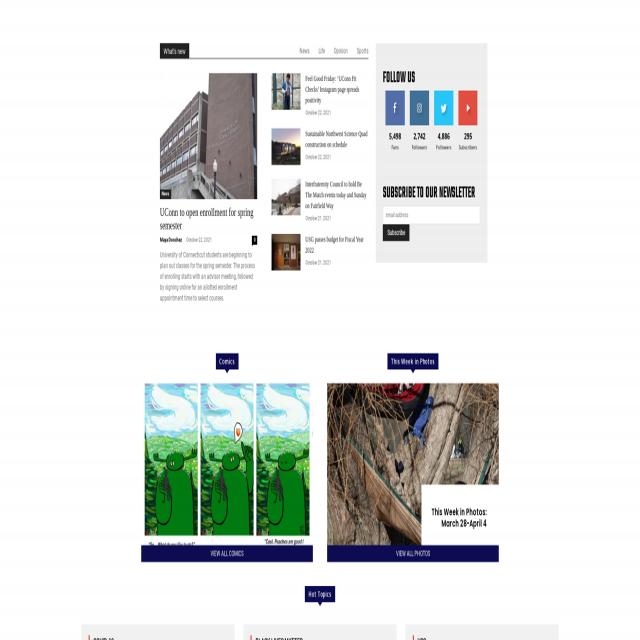button: (141, 384, 313, 546), (327, 384, 499, 546), (160, 73, 257, 199), (272, 73, 368, 117), (272, 178, 368, 222), (271, 233, 368, 270), (272, 128, 368, 165), (141, 546, 313, 562), (327, 546, 499, 562), (409, 90, 429, 126), (385, 90, 405, 126), (458, 91, 478, 127), (434, 90, 453, 126), (160, 42, 190, 60), (383, 223, 410, 240), (160, 190, 171, 199), (252, 236, 257, 245)
field: (383, 206, 480, 224)
